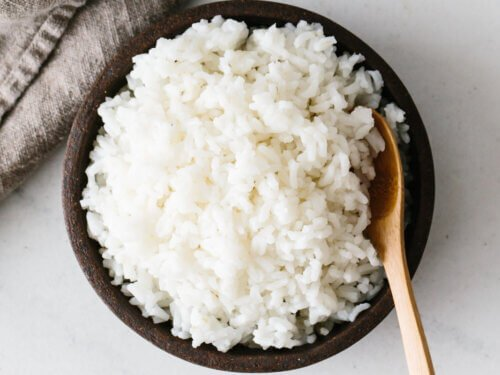Nasi Putih: (50, 19, 441, 375)
